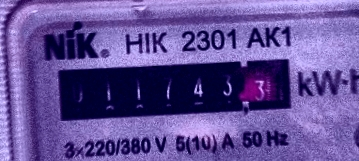0: (69, 77, 85, 106)
1: (130, 73, 144, 102), (101, 75, 113, 102)
3: (219, 70, 235, 98), (250, 77, 266, 103)
4: (189, 72, 205, 100)
7: (159, 71, 176, 100)
screen: (46, 44, 303, 134)
